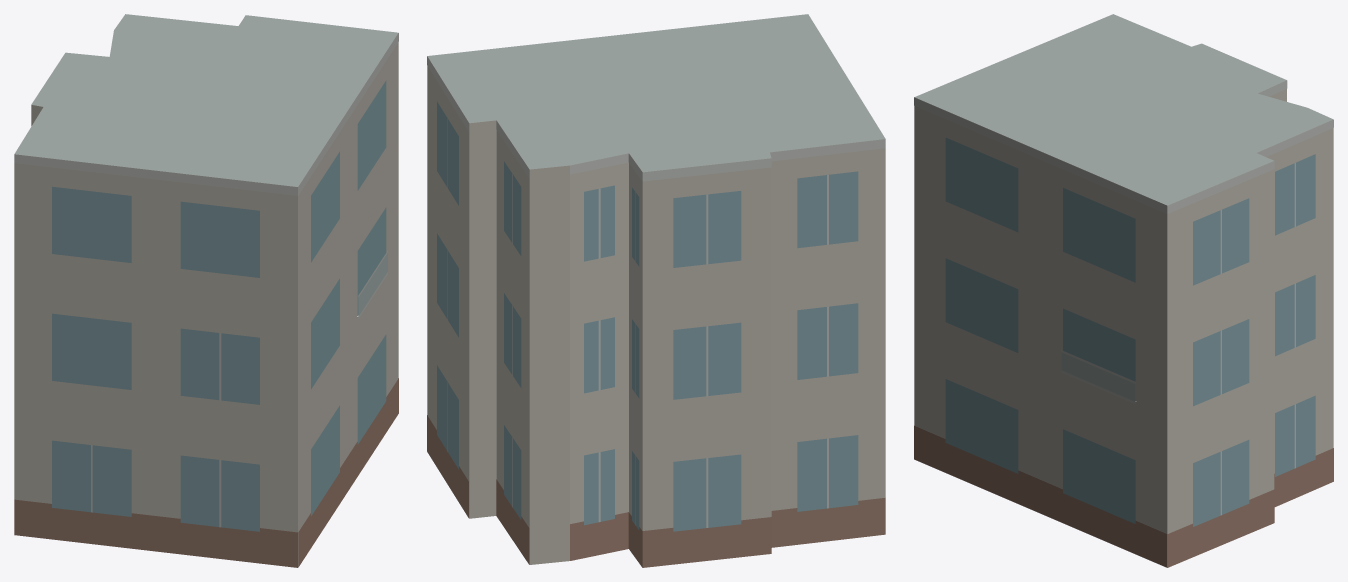
File: survey-upis-33008206.glb
3 renders of one model, left to right at view 1: azimuth 30°, elevation 25°; view 2: azimuth 150°, elevation 25°; view 3: azimuth 270°, elevation 25°, orthographic. The views are drawn at different scales.
Parts seen in each view (by area): view 1: survey-upis-33008206.tmp; view 2: survey-upis-33008206.tmp; view 3: survey-upis-33008206.tmp.
Boxes of the visible parts, x1,y1,x2,y2 form: survey-upis-33008206.tmp: (14,14,398,567); survey-upis-33008206.tmp: (427,14,885,567); survey-upis-33008206.tmp: (914,14,1333,567).
Bounding box in the file's own units: 11.98 × 10.55 × 11.08.
